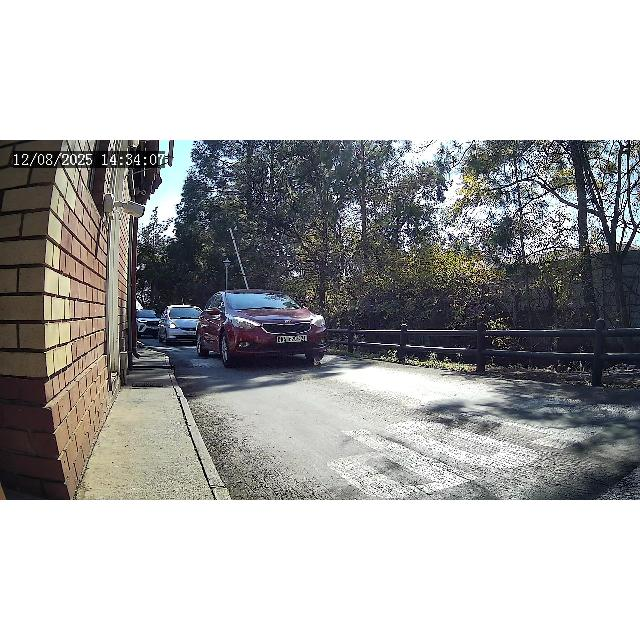car: (196, 290, 328, 368), (158, 304, 204, 344), (136, 308, 162, 338)
plate: (274, 335, 306, 343)
